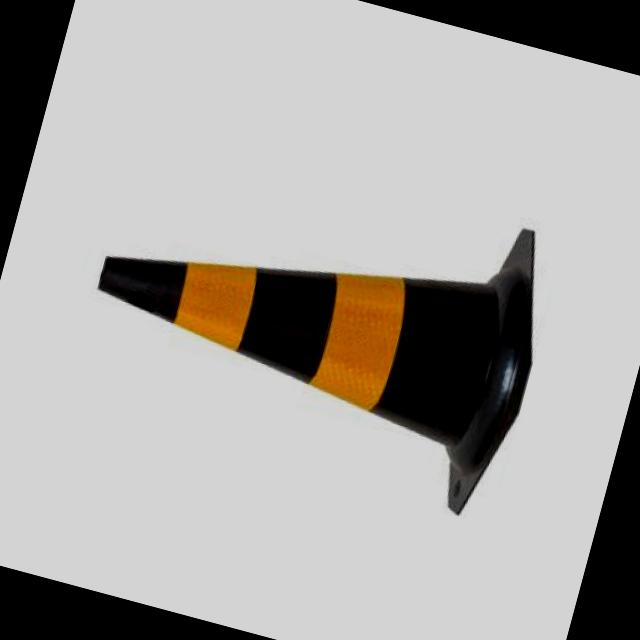cone: (61, 109, 576, 526)
